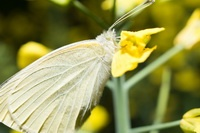insect: (0, 32, 113, 131)
